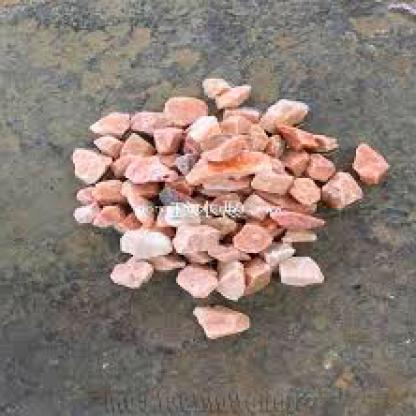Metamorphic_Marble: (184, 138, 274, 184), (191, 300, 251, 341), (275, 250, 330, 292), (200, 71, 256, 111), (109, 225, 176, 258), (154, 94, 212, 129), (261, 92, 311, 131), (171, 262, 221, 300), (324, 165, 366, 210), (356, 137, 395, 185), (73, 176, 135, 204), (86, 101, 133, 137), (233, 217, 278, 253), (72, 144, 112, 178), (238, 193, 277, 219)
